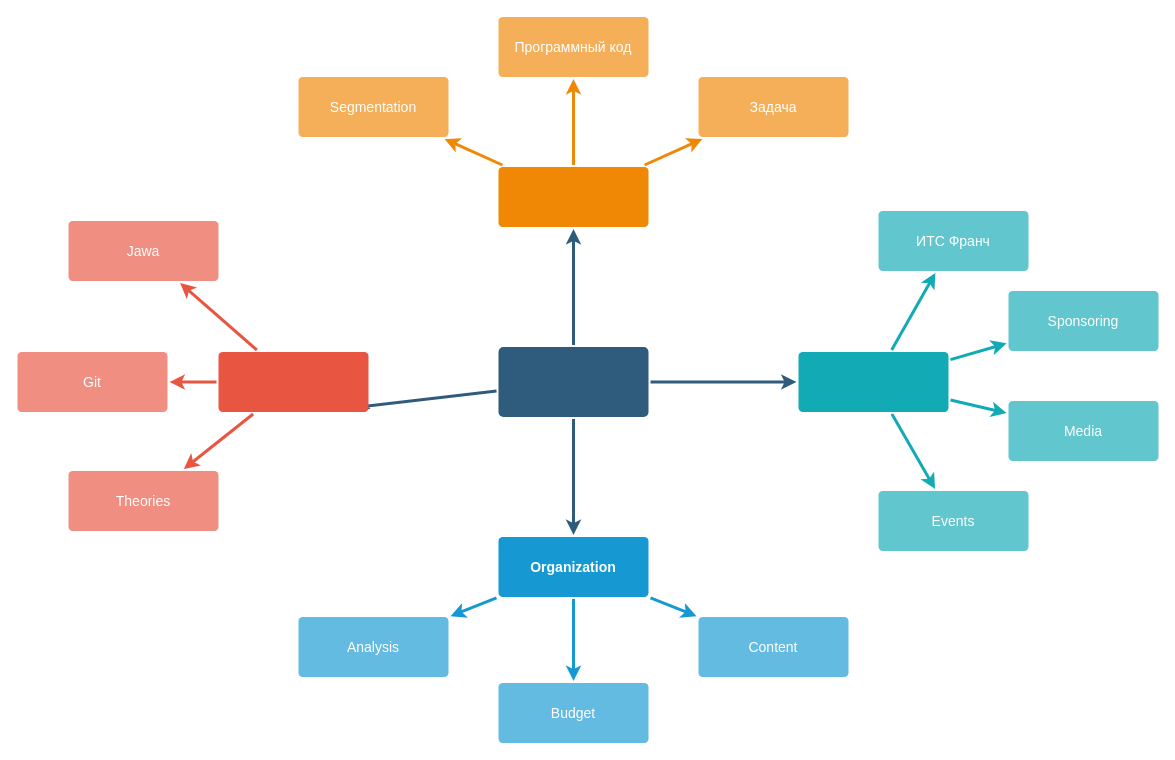
The diagram is 1175 pixels wide and 760 high, and some of its shapes have lost their labels. Each missing label, with the centre of its shape:
"1C" goes at (x=573, y=381).
"BSL LS" goes at (x=293, y=382).
"СКД" goes at (x=573, y=196).
"Стандарты" goes at (x=873, y=382).
